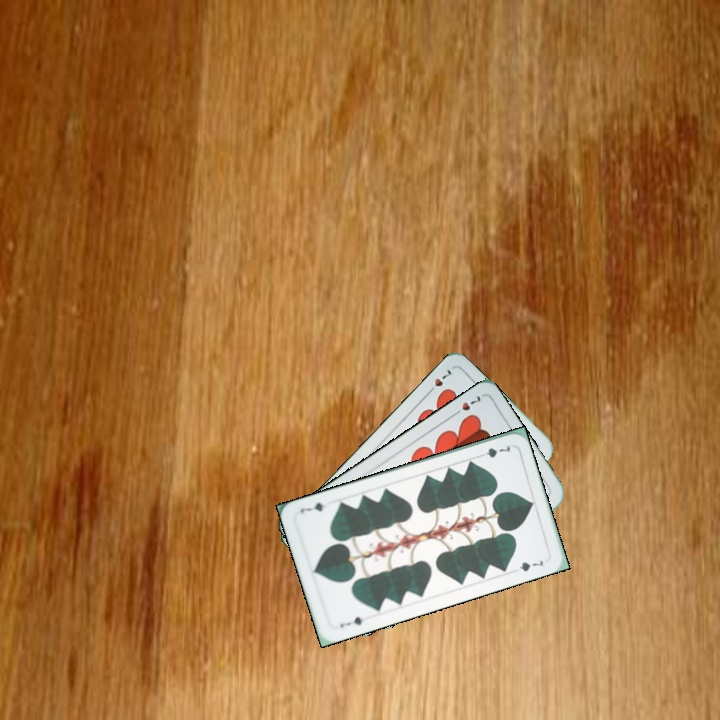G7: (474, 441, 513, 460), (336, 613, 366, 630)
H7: (423, 365, 454, 397), (448, 392, 483, 419)
